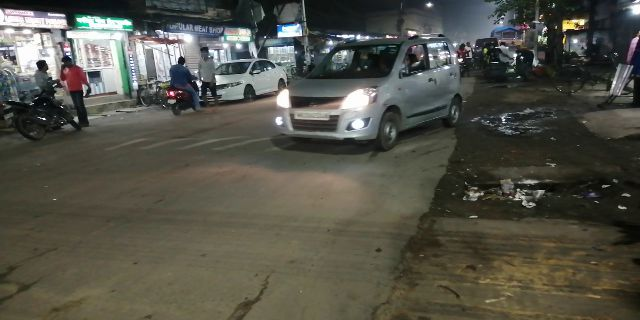Car: (266, 37, 465, 152), (194, 56, 292, 102)
Motorbike: (156, 56, 207, 115)
